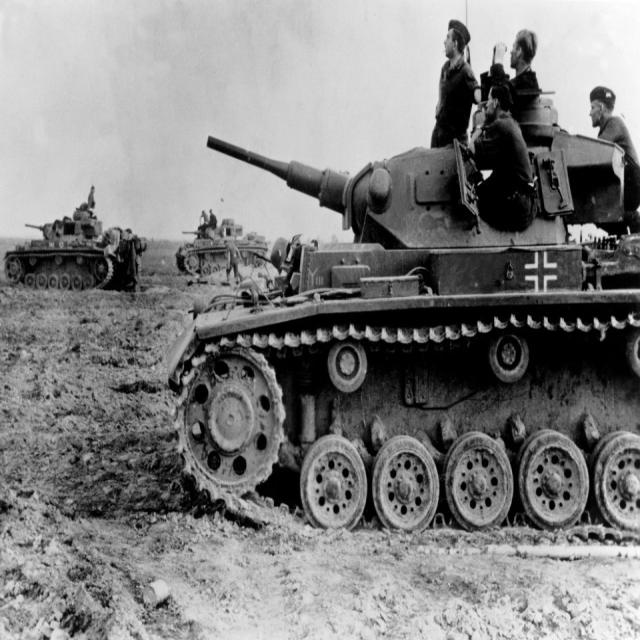body: (465, 81, 536, 232), (429, 18, 492, 150), (589, 86, 640, 212), (478, 27, 540, 113), (222, 238, 242, 285), (76, 184, 99, 224), (197, 207, 219, 235)
